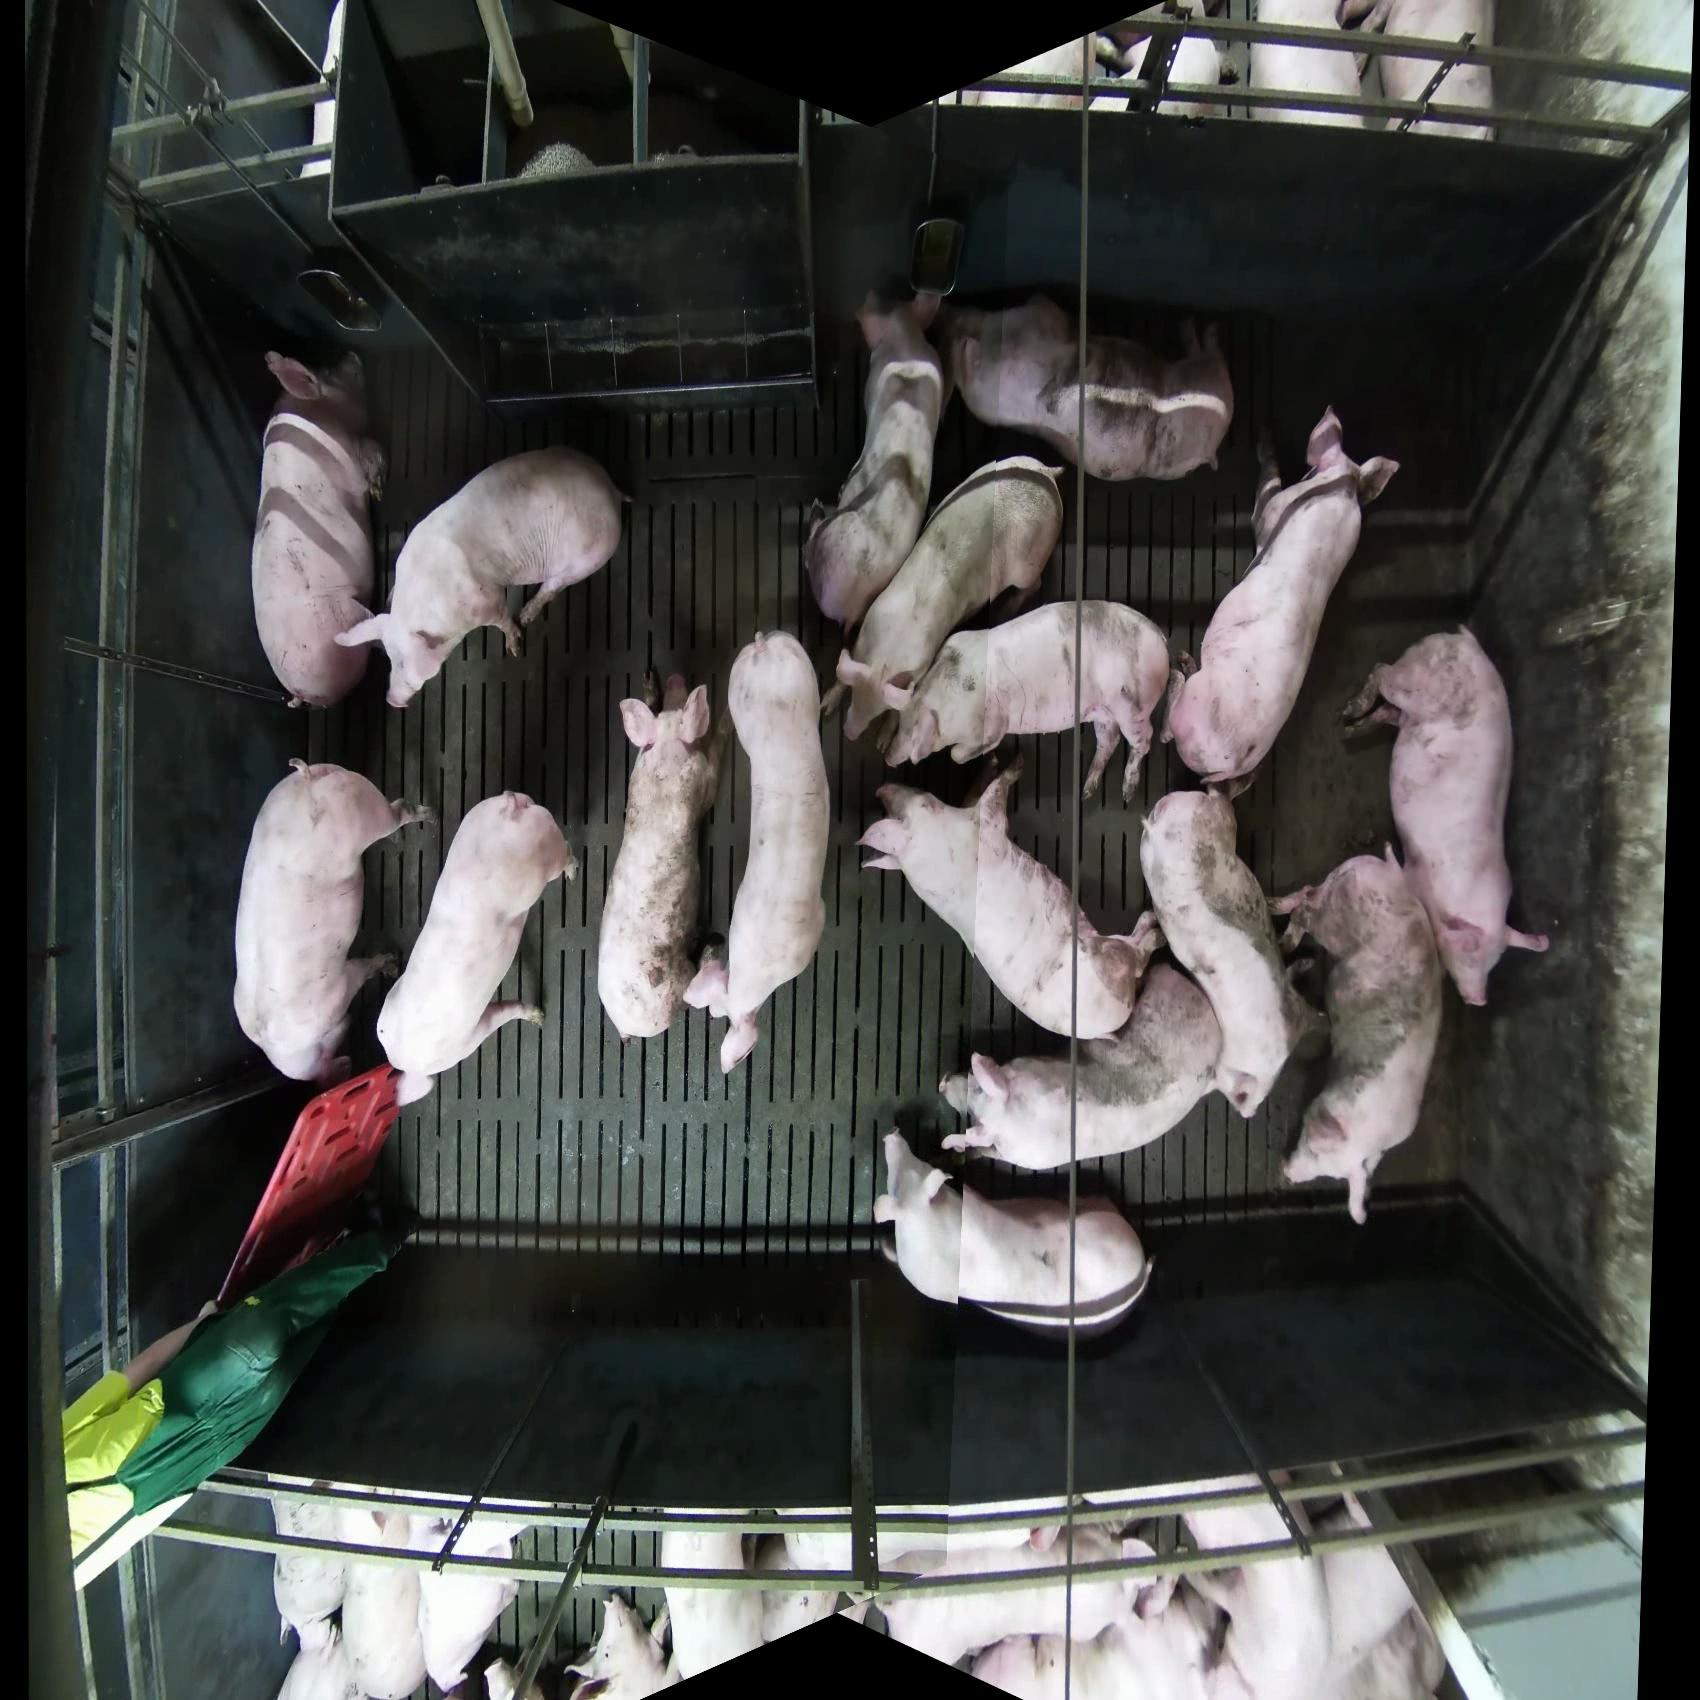pig: (1162, 404, 1401, 801), (855, 758, 1166, 1043), (1338, 622, 1551, 1010), (335, 444, 633, 711), (821, 454, 1067, 743), (681, 628, 832, 1076), (1270, 842, 1447, 1227), (231, 758, 433, 1084), (375, 789, 578, 1108), (1138, 787, 1325, 1121), (881, 598, 1174, 809), (938, 957, 1226, 1173), (872, 1130, 1154, 1339), (1170, 1498, 1448, 1700), (943, 293, 1236, 483), (269, 1487, 526, 1700), (802, 285, 948, 636), (250, 347, 388, 712), (209, 1062, 404, 1316), (595, 673, 721, 1043), (866, 1522, 1159, 1670), (658, 1525, 838, 1685), (1340, 1, 1498, 142), (414, 1514, 524, 1696), (951, 27, 1151, 116), (1245, 1, 1377, 128), (563, 1591, 679, 1700), (482, 1658, 548, 1700)
worker: (61, 1220, 398, 1589)
